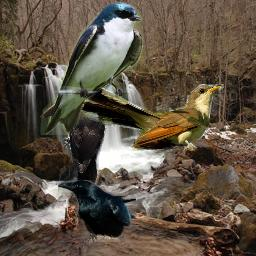Crow: (58, 180, 136, 242)
Cuckoo: (72, 84, 224, 151)
Swallow: (40, 1, 143, 135)
Woodpecker: (58, 77, 120, 196)
